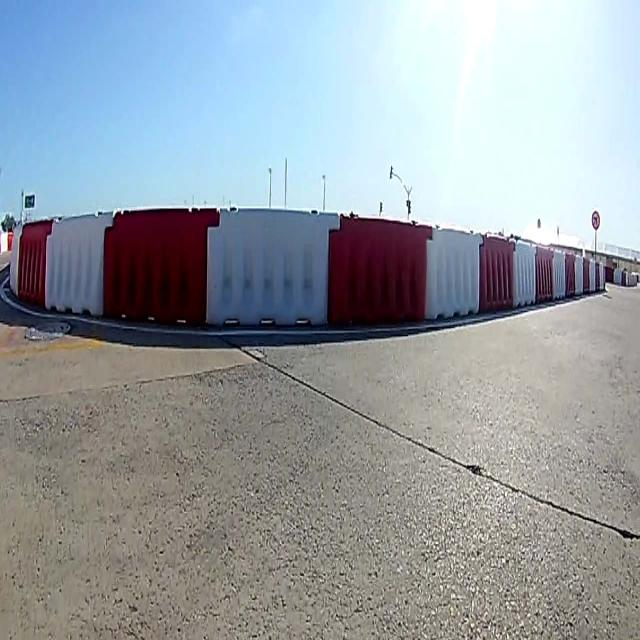soladonulmez: (592, 208, 600, 230)
